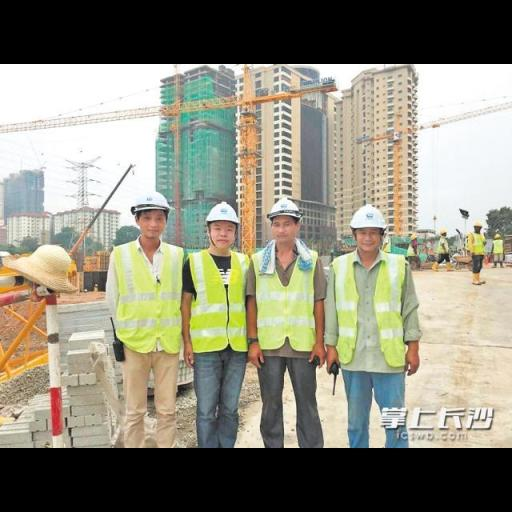Person: (328, 189, 430, 449), (112, 180, 192, 444), (184, 192, 263, 456), (255, 184, 334, 448)
helmet: (263, 196, 308, 223), (202, 202, 248, 228), (130, 184, 176, 210), (348, 206, 393, 232)
none: (102, 334, 126, 369), (324, 340, 347, 376), (403, 337, 426, 372), (178, 338, 200, 374), (308, 338, 330, 374), (242, 332, 265, 366)
vest: (174, 242, 259, 362), (329, 253, 414, 372), (108, 236, 193, 355), (238, 244, 322, 364)
